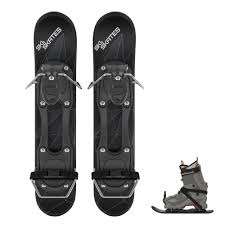skis: (33, 11, 137, 217)
